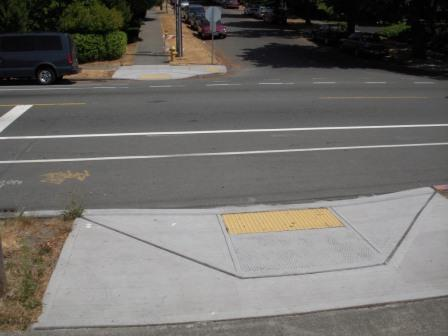ramp: (163, 180, 401, 261), (121, 66, 190, 95), (197, 62, 235, 84)
